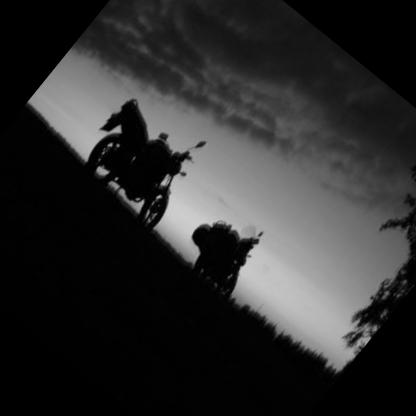moto: (60, 76, 229, 248), (169, 186, 291, 307)
